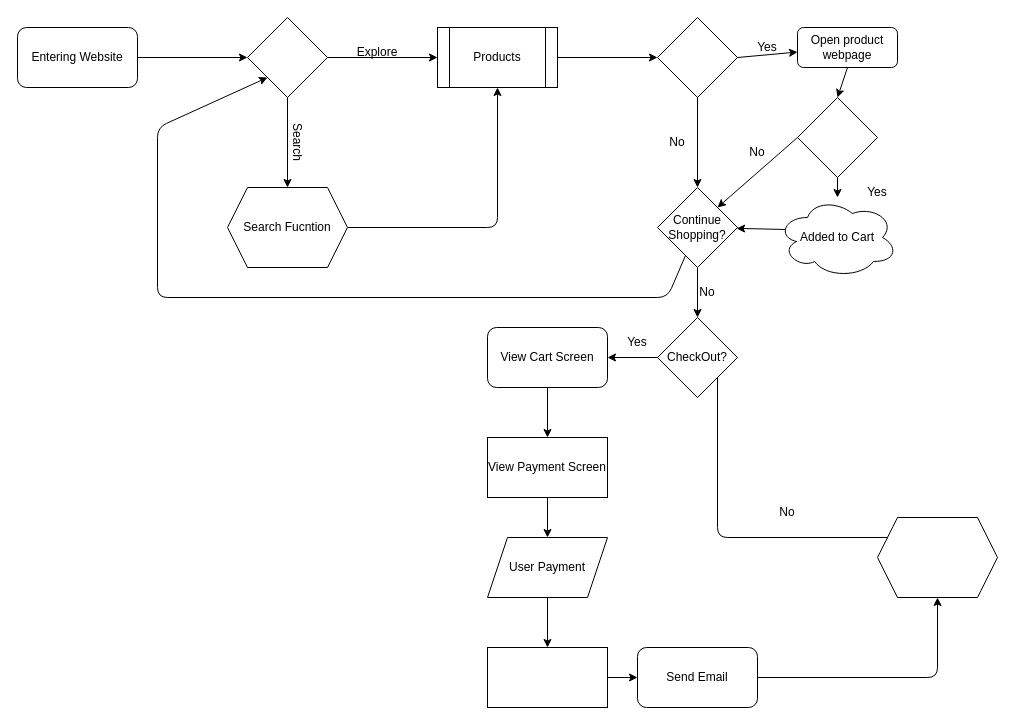
Some shapes in this 1015 by 725 pixel diagram are drawn without their labels. Each missing label, with the box of its shape:
Add to Cart?: (796, 96, 878, 178)
Confirmation: (486, 646, 608, 708)
Focus a Product?: (656, 16, 738, 98)
Leave Website: (876, 516, 998, 598)
Search or Explore: (246, 16, 328, 98)
